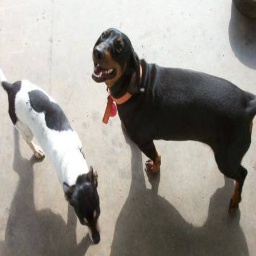dog: (1, 27, 254, 246)
